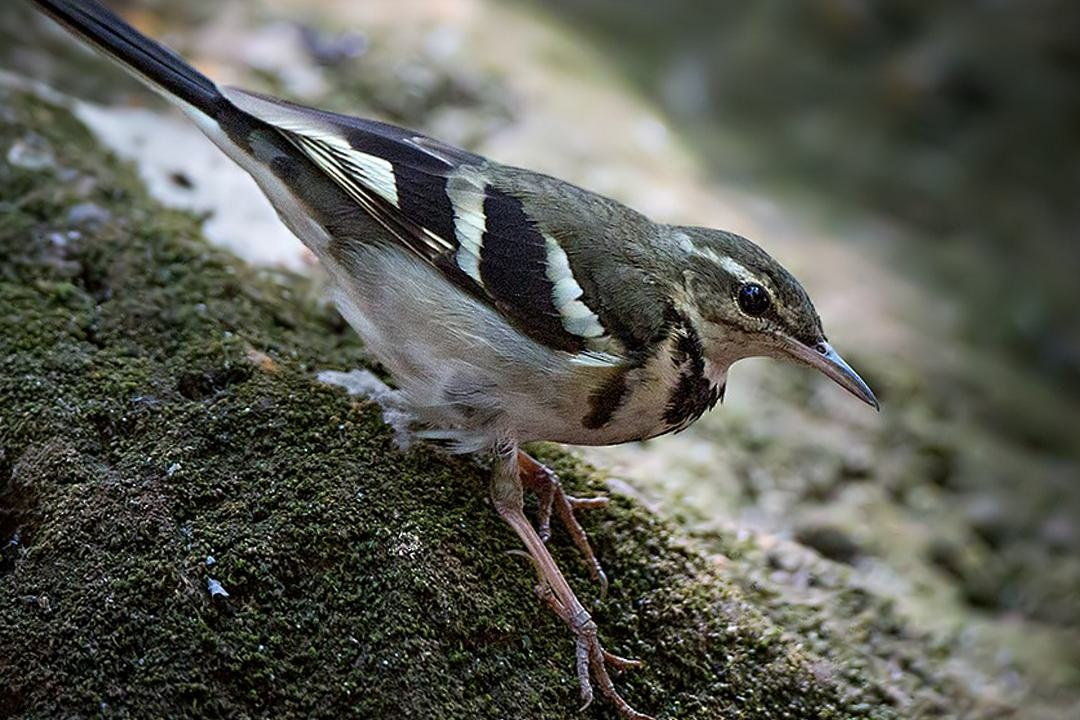wagtail: (180, 58, 871, 563)
